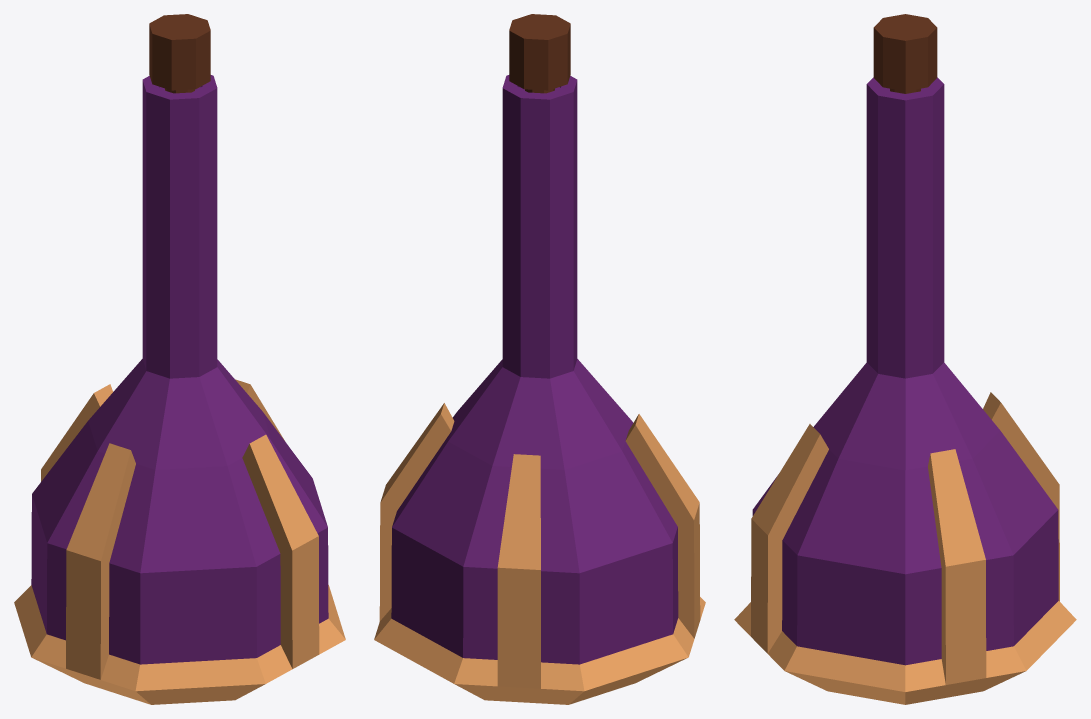
File: potion_purple.glb
3 views of the same model, side by side, from view 1: azimuth 30°, elevation 25°; view 2: azimuth 150°, elevation 25°; view 3: azimuth 270°, elevation 25° (orthographic).
Visible parts, largest first — view 1: Potion; view 2: Potion; view 3: Potion.
Boxes of the visible parts, box(x1,y1,x2,y2) form: Potion: box(14, 14, 345, 704); Potion: box(374, 14, 705, 704); Potion: box(734, 14, 1076, 704).
Bounding box in the file's own units: 0.5738 × 1.17 × 0.5738.
